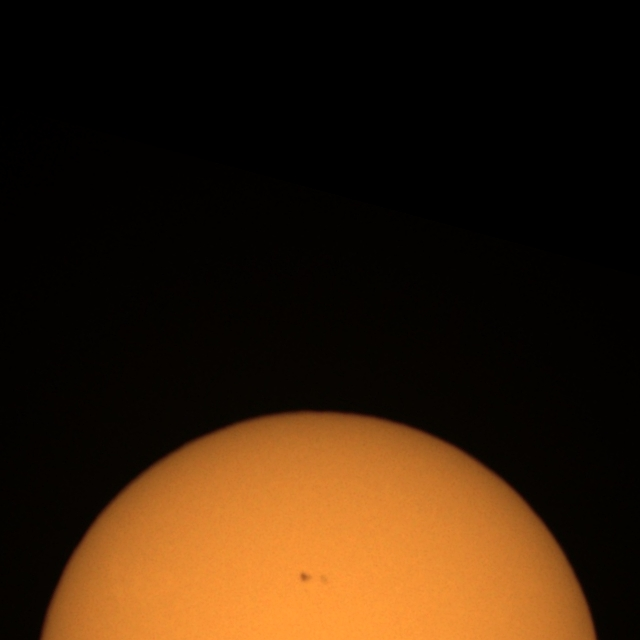sunspot: (297, 570, 315, 586)
